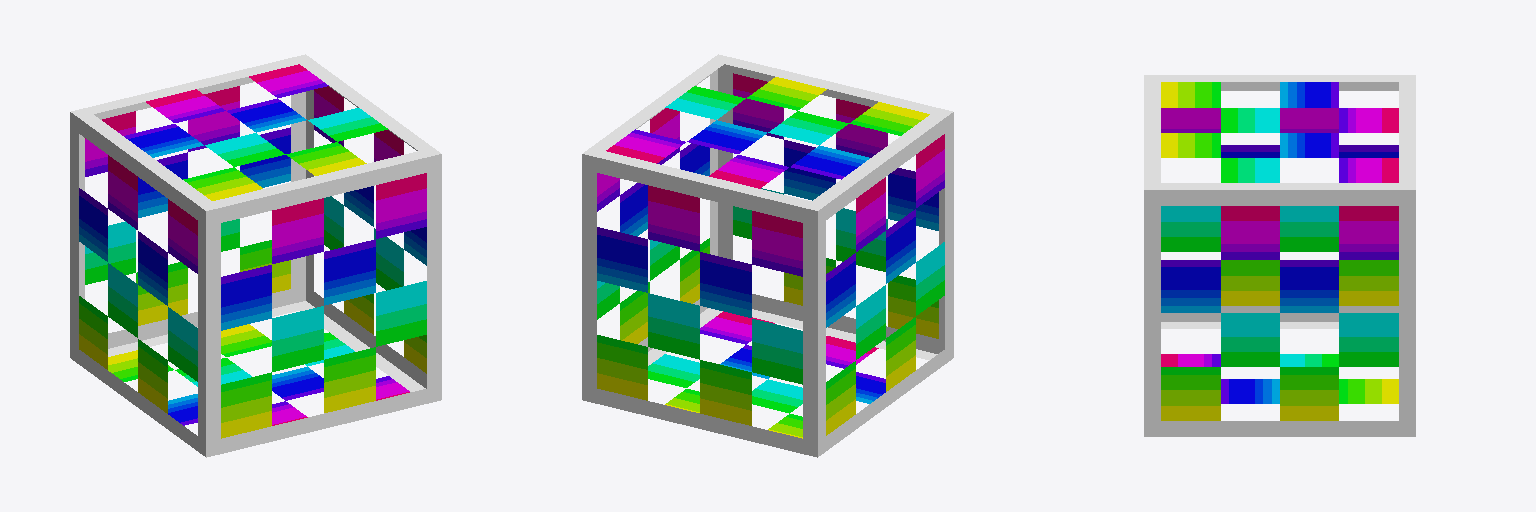
3 views of the same model, side by side, from view 1: azimuth 30°, elevation 25°; view 2: azimuth 150°, elevation 25°; view 3: azimuth 270°, elevation 25° (orthographic).
Visible parts, largest first — view 1: polygon0.003; view 2: polygon0.003; view 3: polygon0.003.
Part boxes in pixels (bbox=[...]): polygon0.003: bbox=[70, 54, 441, 457]; polygon0.003: bbox=[582, 54, 953, 457]; polygon0.003: bbox=[1144, 75, 1415, 436].
Bounding box in the file's own units: 0.9375 × 0.9375 × 0.9375.
Materials: 1 (1 with a texture image).